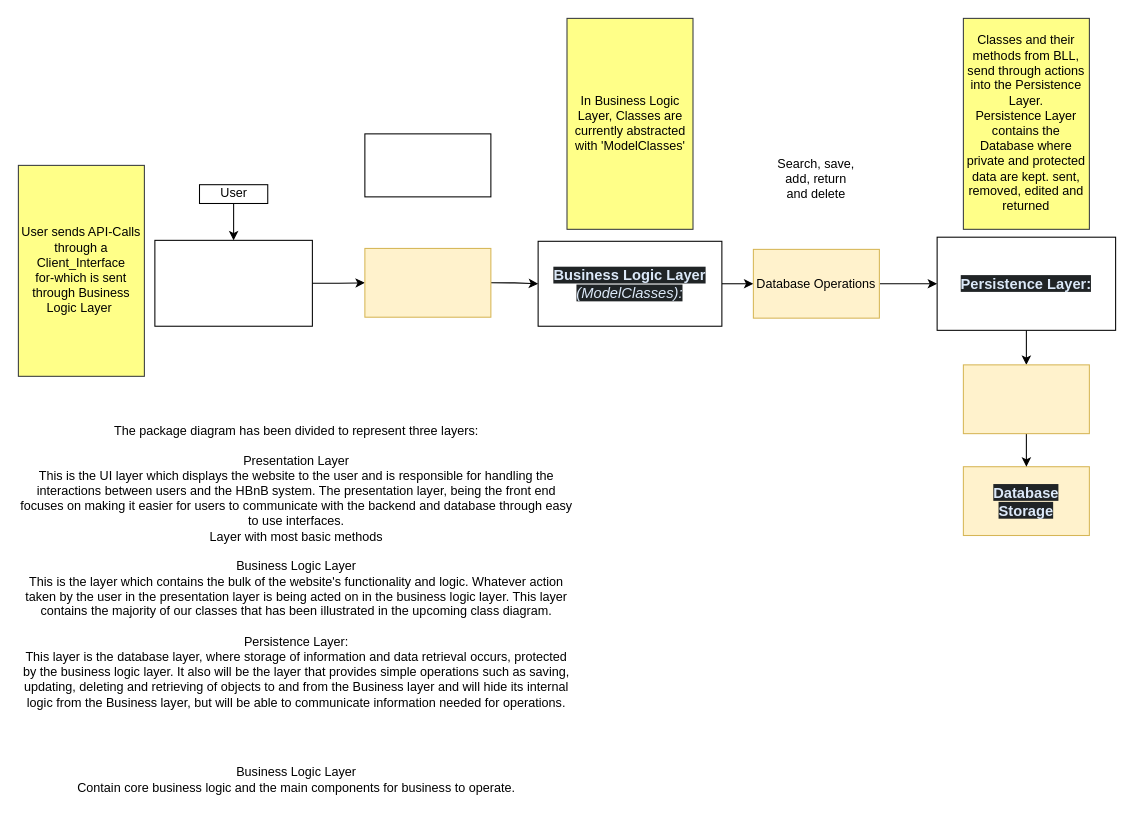
Image size: 1134x824. Some labels were removed from this diagram. Each missing label, with the centre of its shape:
"Checking for access right" goes at point 1025,399.
"Facade Pattern" goes at point 427,282.
"Presentation Layer (ServiceAPI): (Client_Interface):" goes at point 233,282.
"The Facade Pattern Abstracts all method actions away from API" goes at point 427,165.
